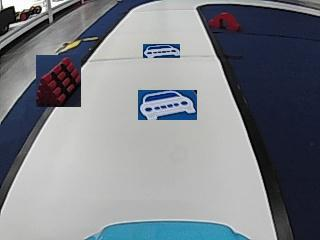bridge: (209, 11, 240, 30)
